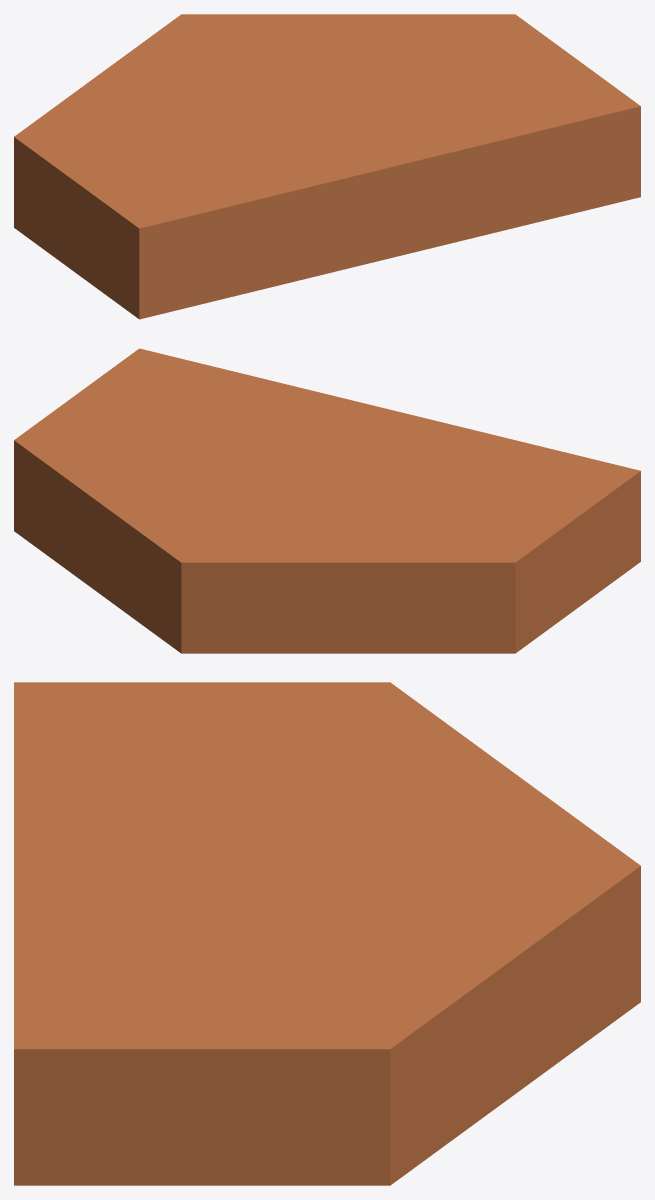
Rendered from _1wall.glb.
The picture shows the model from 3 angles, top to bottom: view 1: azimuth 30°, elevation 25°; view 2: azimuth 150°, elevation 25°; view 3: azimuth 270°, elevation 25°; orthographic projection. The views are drawn at different scales.
Parts seen in each view (by area): view 1: Cliff2; view 2: Cliff2; view 3: Cliff2.
Boxes of the visible parts, left/top/right/bottom form: Cliff2: left=14, top=14, right=640, bottom=319; Cliff2: left=14, top=348, right=640, bottom=653; Cliff2: left=14, top=682, right=640, bottom=1185.
Size of the model in its own units: 1.73 by 0.3 by 1.25.
Materials: 1 (1 with a texture image).
